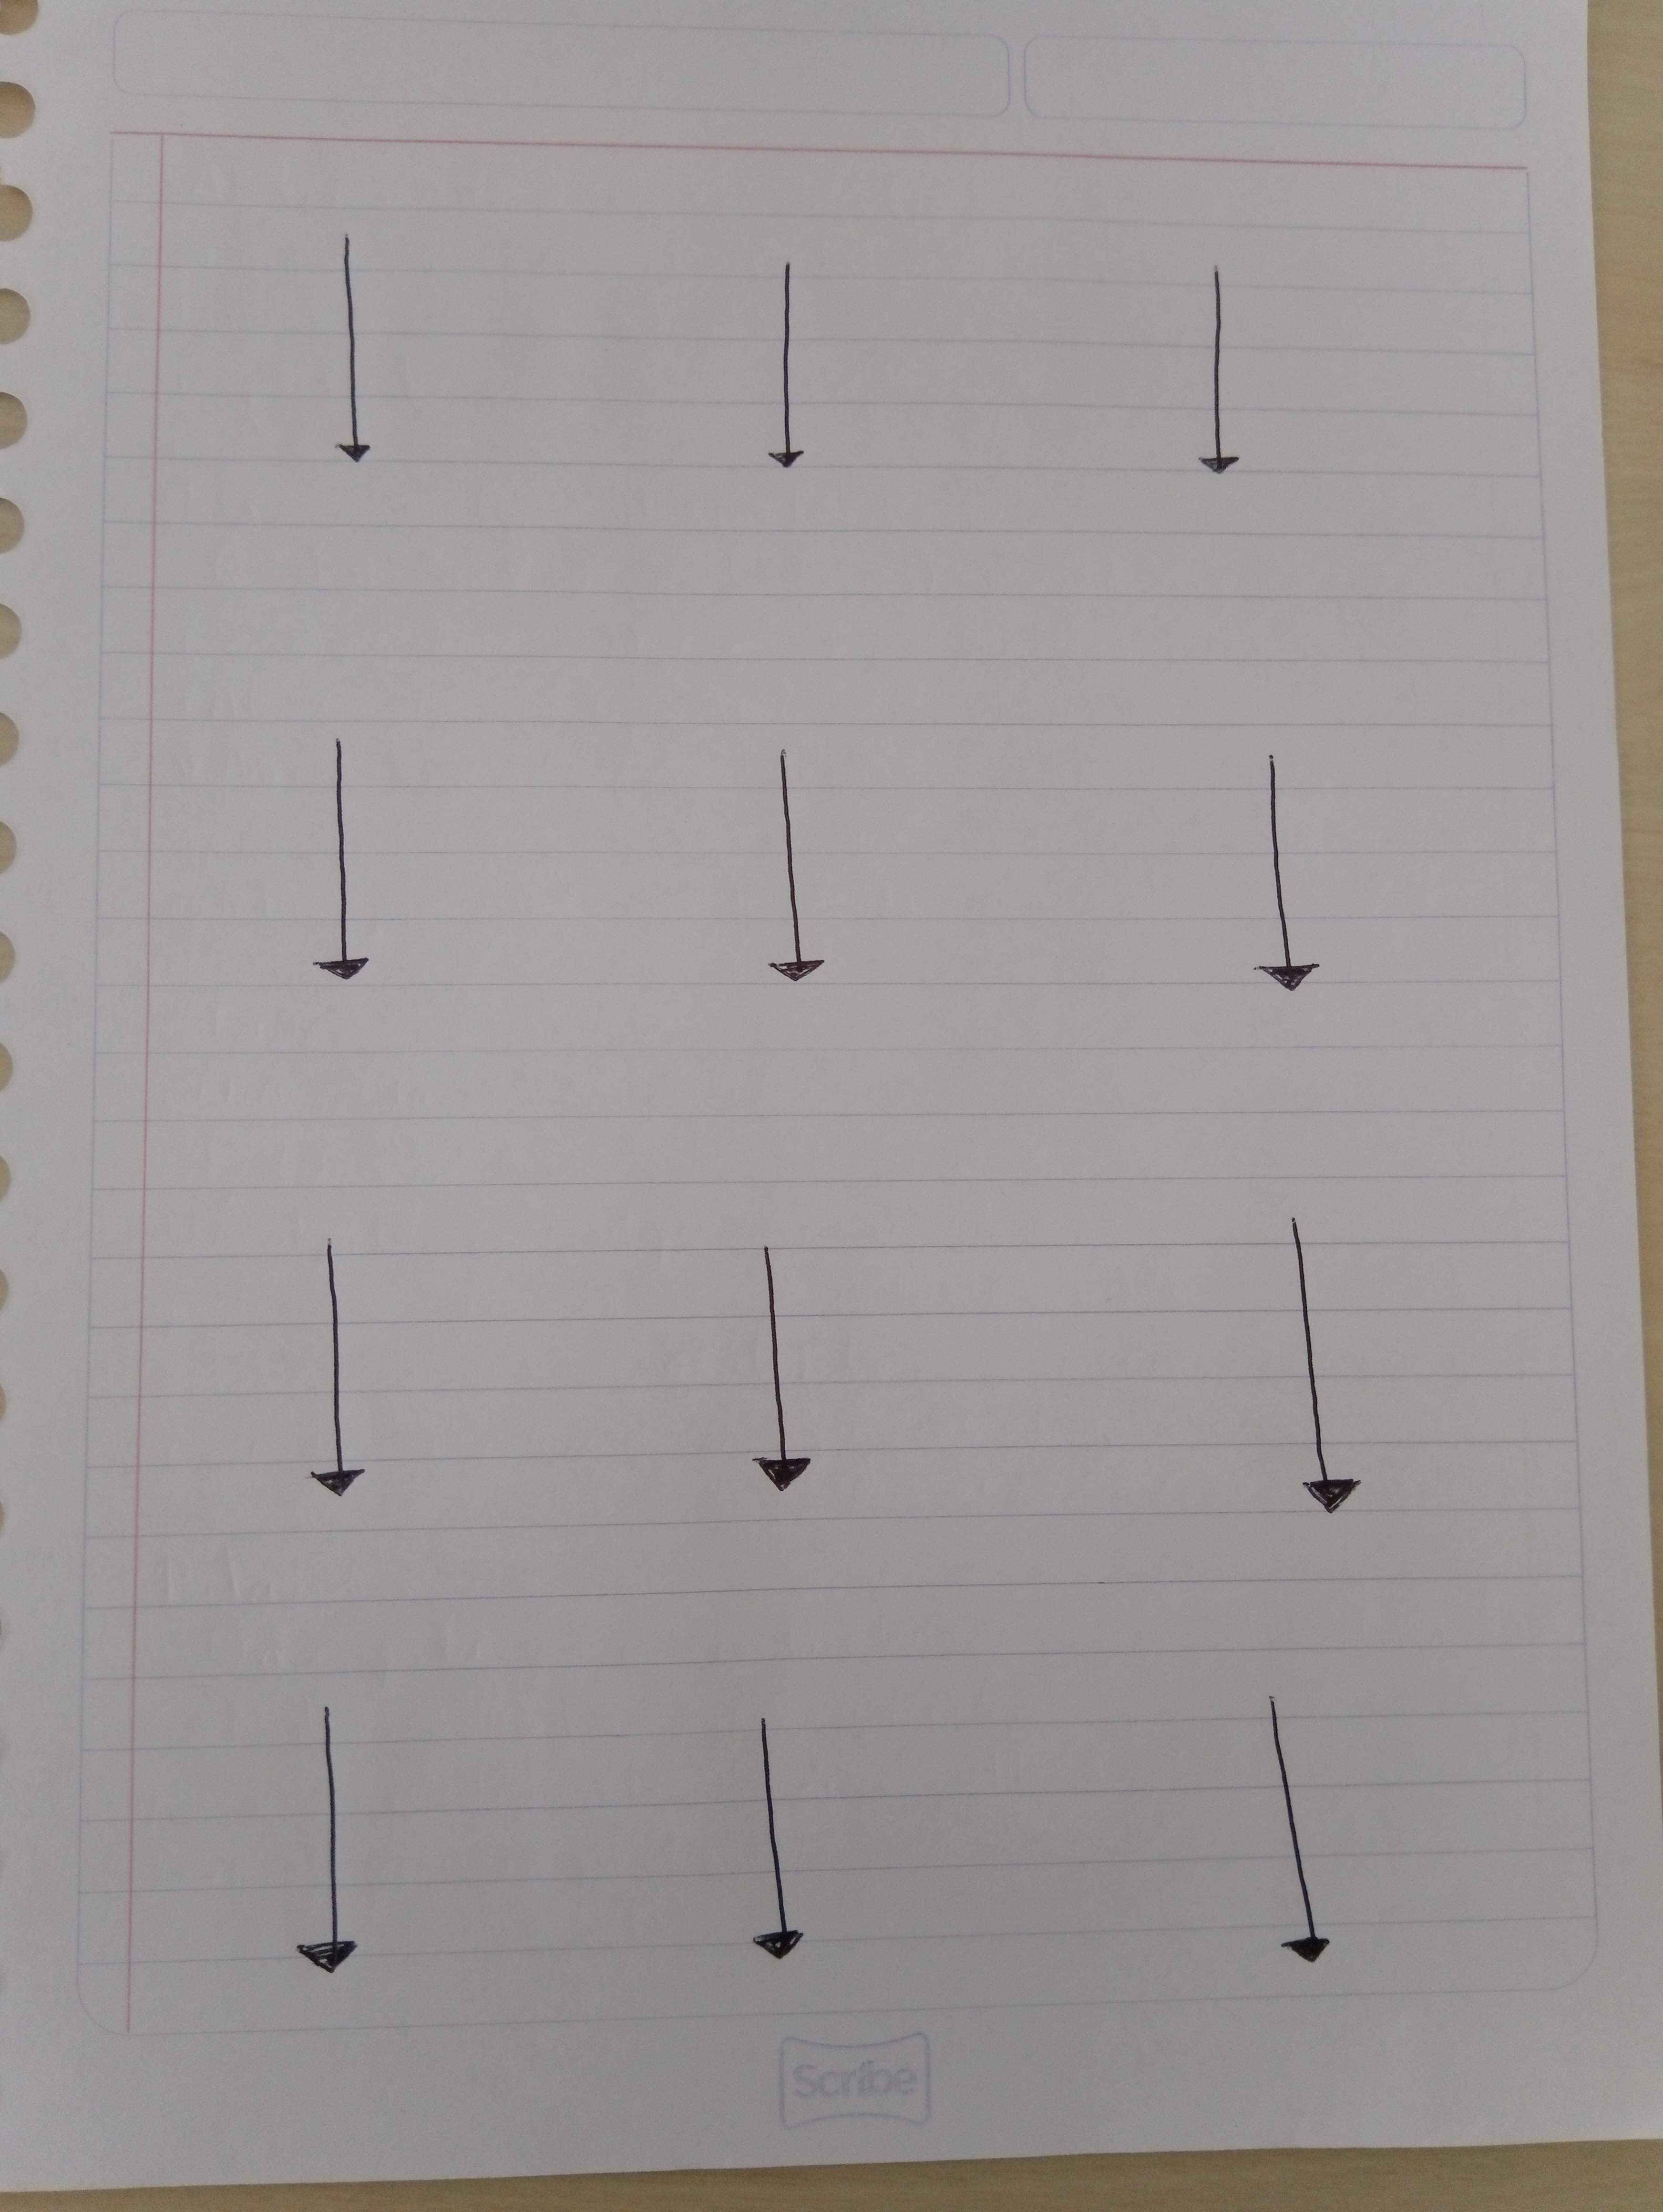arrow_line_down: (1251, 1208, 1368, 1531), (1244, 1700, 1361, 1964), (1204, 751, 1324, 1004), (713, 1245, 833, 1498), (723, 1704, 833, 1971), (279, 1704, 379, 1997), (293, 725, 390, 995), (297, 1238, 376, 1531), (300, 234, 397, 468), (741, 258, 830, 478), (756, 735, 833, 985), (1177, 262, 1261, 482)
